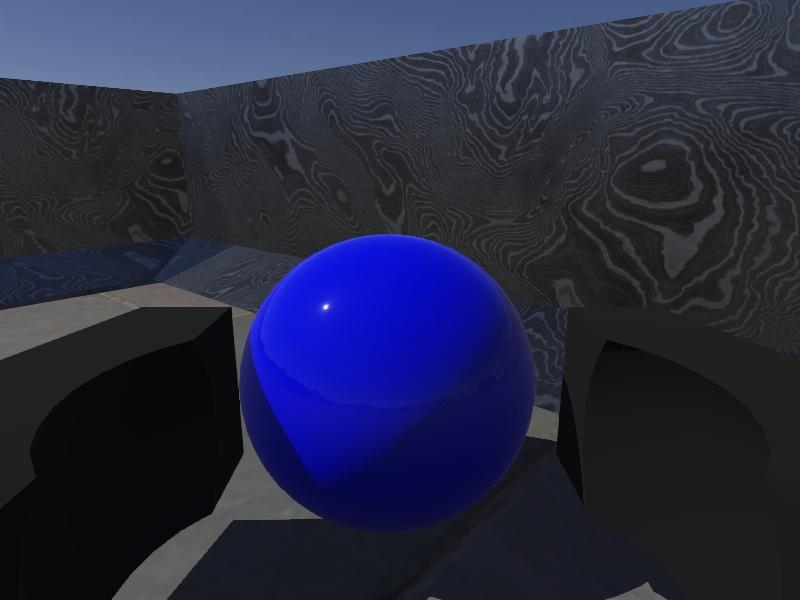blue ball: (239, 233, 536, 532)
